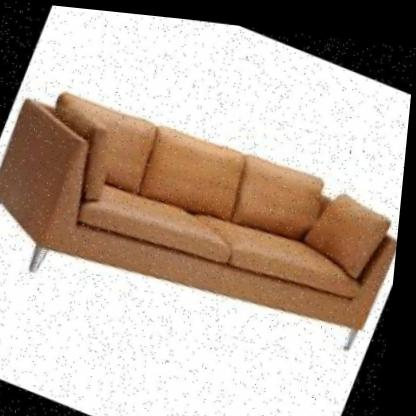Sofa: (0, 43, 413, 416)
